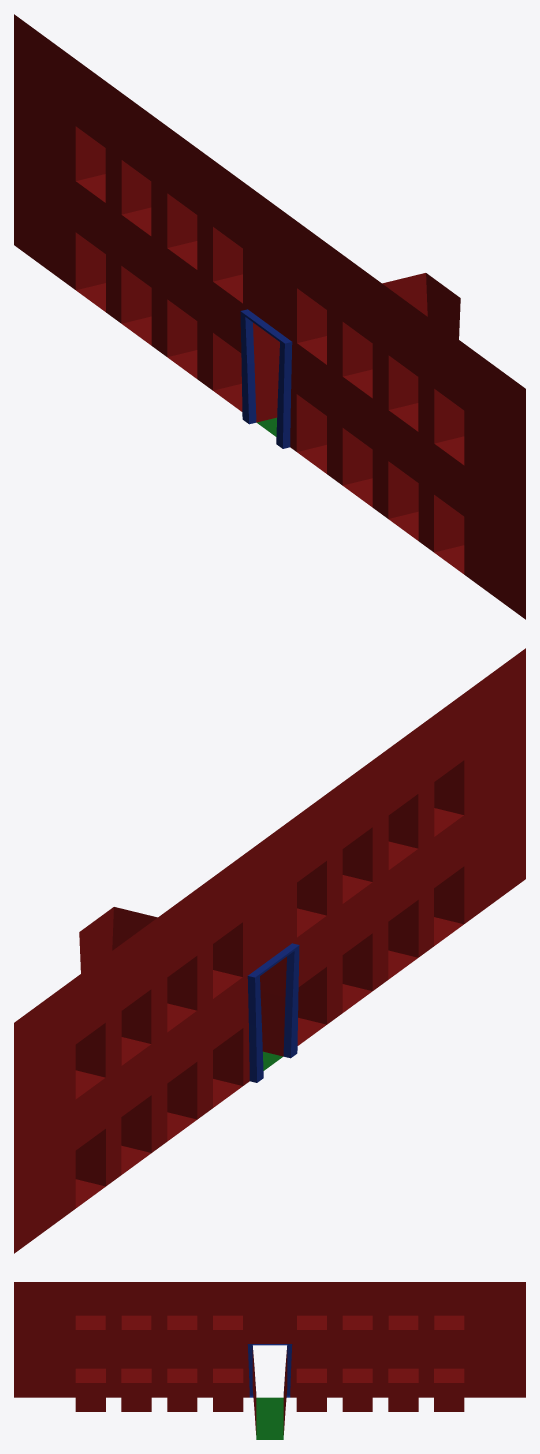
File: SM_Wall_Bottom_E 1.fbx
The picture shows the model from 3 angles, top to bottom: view 1: azimuth 30°, elevation 25°; view 2: azimuth 150°, elevation 25°; view 3: azimuth 270°, elevation 25°; orthographic projection. The views are drawn at different scales.
Visible parts, largest first — view 1: SM_Wall_Bottom_E; view 2: SM_Wall_Bottom_E; view 3: SM_Wall_Bottom_E.
Part boxes in pixels (x1=…): SM_Wall_Bottom_E: x1=14, y1=14, x2=525, y2=619; SM_Wall_Bottom_E: x1=14, y1=648, x2=525, y2=1253; SM_Wall_Bottom_E: x1=14, y1=1282, x2=525, y2=1439.
Bounding box in the file's own units: 27.93 × 34.13 × 137.
